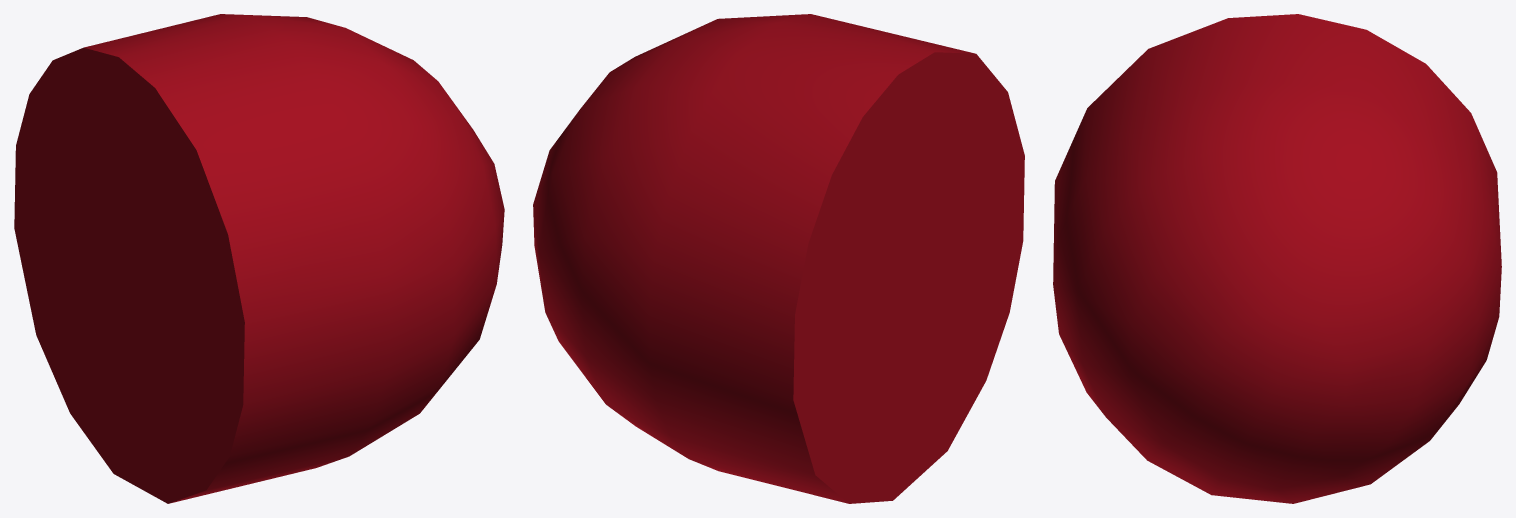
Rendered from bala_materia_vermelha.obj.
3 renders of one model, left to right at view 1: azimuth 30°, elevation 25°; view 2: azimuth 150°, elevation 25°; view 3: azimuth 270°, elevation 25°, orthographic. The views are drawn at different scales.
Size of the model in its own units: 0.0392 by 0.0447 by 0.0448.
